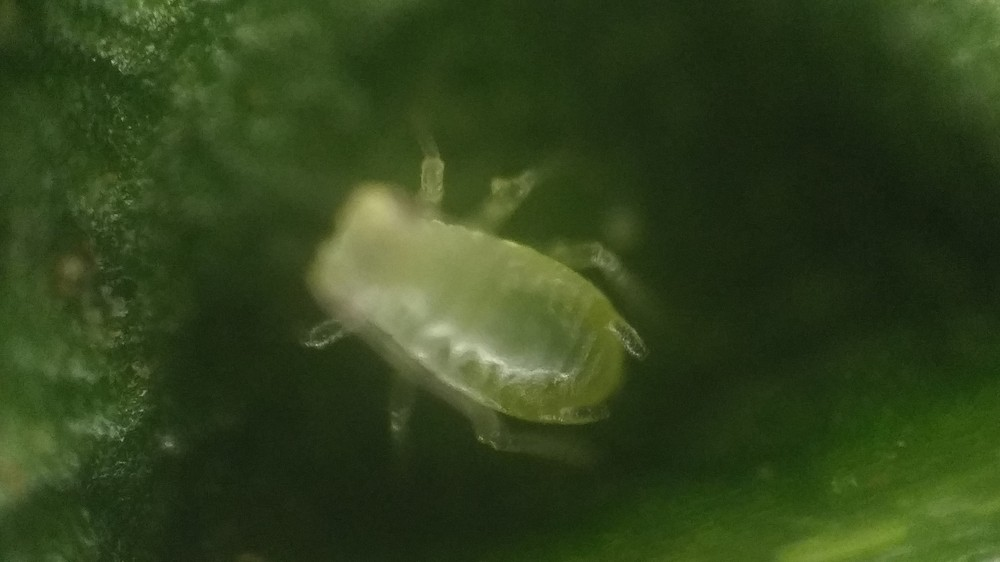Pulgon: (269, 107, 711, 505)
